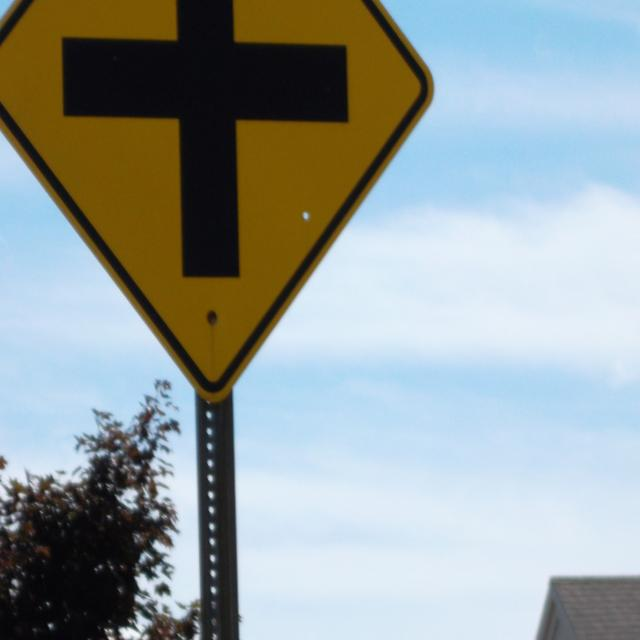warning: (0, 0, 433, 378)
